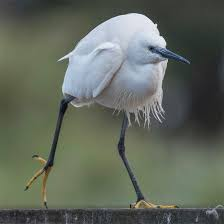Walking: (17, 4, 193, 212)
